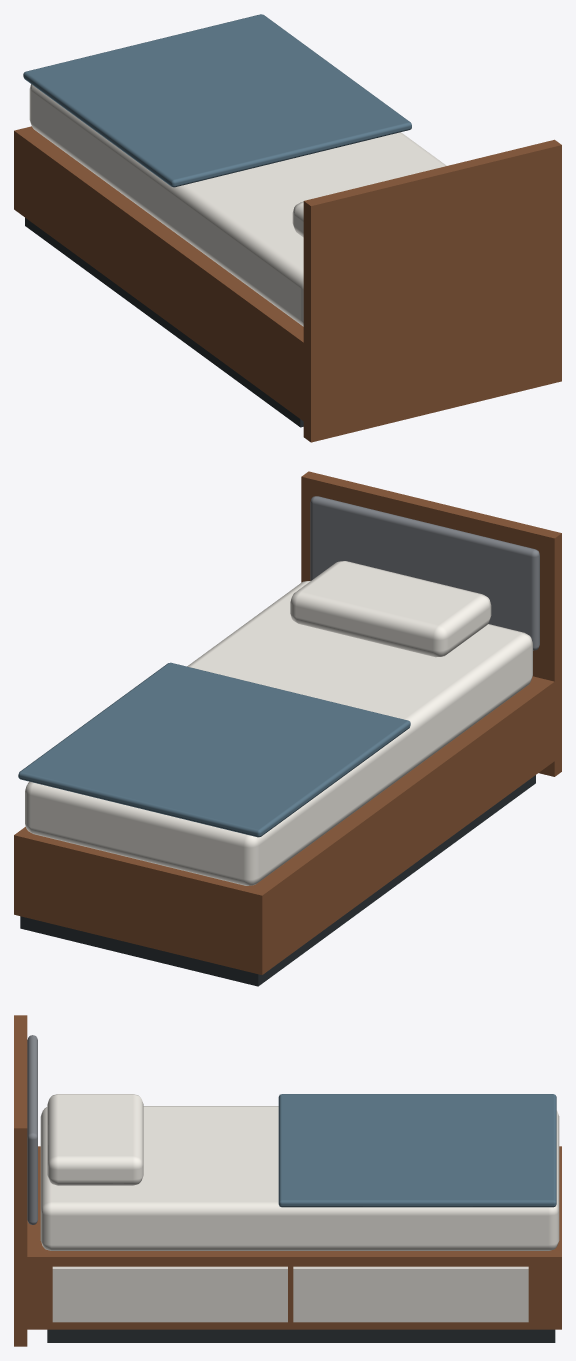
The picture shows the model from 3 angles, top to bottom: view 1: azimuth 30°, elevation 25°; view 2: azimuth 150°, elevation 25°; view 3: azimuth 270°, elevation 25°; orthographic projection. The views are drawn at different scales.
Parts seen in each view (by area): view 1: headboard, blanket, mattress, plinth; view 2: headboard, mattress, blanket, pad, plinth; view 3: mattress, blanket, drawer-foot, headboard, plinth, pad.
Boxes of the visible parts, left/top/right/bottom form: headboard: left=14, top=126, right=561, bottom=442; blanket: left=23, top=14, right=411, bottom=187; mattress: left=29, top=84, right=446, bottom=326; plinth: left=25, top=218, right=303, bottom=427; headboard: left=14, top=471, right=561, bottom=974; mattress: left=25, top=561, right=532, bottom=885; blanket: left=18, top=662, right=410, bottom=837; pad: left=310, top=496, right=539, bottom=650; plinth: left=20, top=775, right=535, bottom=986; mattress: left=40, top=1094, right=559, bottom=1250; blanket: left=278, top=1094, right=556, bottom=1207; drawer-foot: left=52, top=1266, right=528, bottom=1322; headboard: left=14, top=1015, right=561, bottom=1346; plinth: left=47, top=1329, right=555, bottom=1342; pad: left=27, top=1035, right=37, bottom=1224.
Bounding box in the file's own units: 1 × 0.9 × 2.05.
